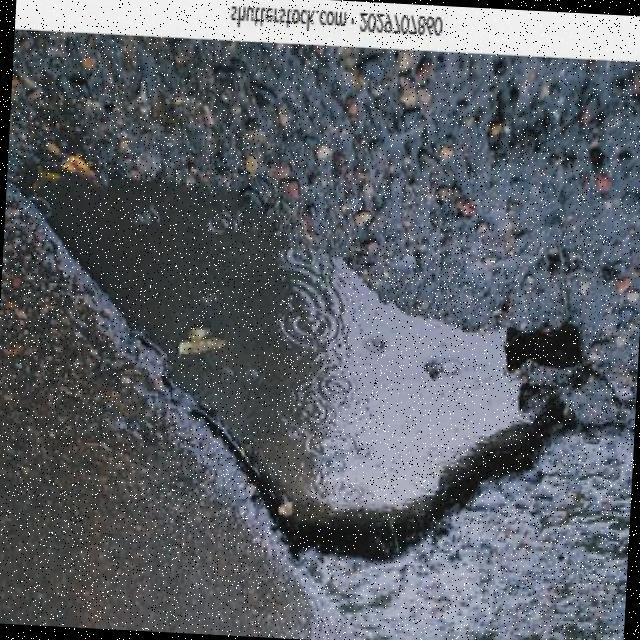Pothole: (6, 30, 640, 566)
